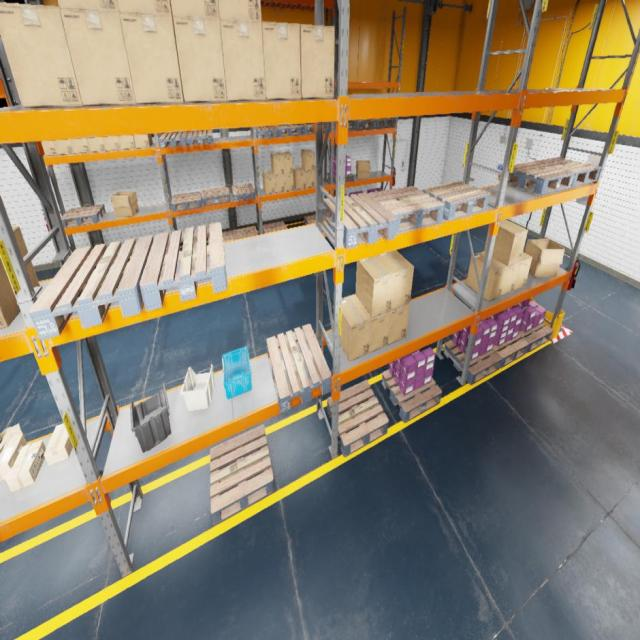box: (0, 3, 83, 108), (60, 8, 136, 106), (120, 13, 184, 104), (173, 16, 227, 103), (0, 225, 39, 328), (220, 19, 265, 101), (262, 22, 301, 100), (300, 24, 335, 98), (355, 255, 395, 317), (341, 294, 372, 362), (379, 250, 414, 310), (356, 294, 392, 352), (484, 219, 528, 266), (467, 251, 508, 301), (6, 440, 46, 491), (484, 251, 520, 296), (0, 423, 27, 481), (524, 239, 564, 276), (44, 424, 72, 466), (219, 0, 262, 22), (170, 0, 219, 18), (388, 304, 410, 344), (117, 0, 172, 16), (57, 0, 119, 12), (111, 192, 139, 218), (513, 252, 532, 290), (70, 138, 90, 153), (271, 152, 284, 175), (293, 168, 306, 190), (280, 152, 293, 174), (262, 172, 275, 194), (87, 137, 106, 152), (134, 134, 152, 149), (118, 135, 136, 150), (54, 140, 73, 154), (302, 149, 314, 171), (41, 140, 57, 156), (103, 136, 120, 151), (302, 167, 314, 188), (273, 173, 285, 193), (356, 161, 370, 178), (316, 165, 324, 186), (284, 173, 293, 191)
pallets: (28, 236, 153, 340), (140, 222, 228, 311), (210, 424, 274, 526), (266, 323, 332, 414), (327, 380, 389, 457), (323, 192, 397, 248), (368, 186, 445, 232), (382, 370, 442, 423), (422, 180, 490, 220), (443, 340, 502, 384), (507, 162, 575, 195), (534, 157, 601, 187), (493, 334, 529, 368), (518, 322, 553, 353), (61, 204, 106, 228), (172, 191, 202, 212), (202, 187, 230, 206), (159, 132, 188, 148), (232, 183, 256, 202), (187, 130, 213, 146), (208, 231, 234, 245), (232, 226, 258, 240), (275, 124, 302, 136), (328, 172, 354, 184), (263, 221, 287, 233), (256, 126, 278, 139), (348, 119, 376, 129), (300, 124, 327, 134), (304, 213, 326, 224), (372, 118, 394, 126), (96, 258, 102, 266)
